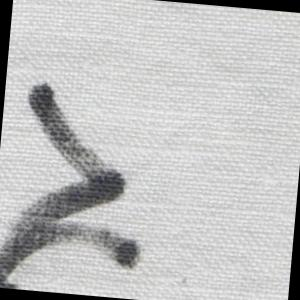Stain: (1, 76, 162, 300)
